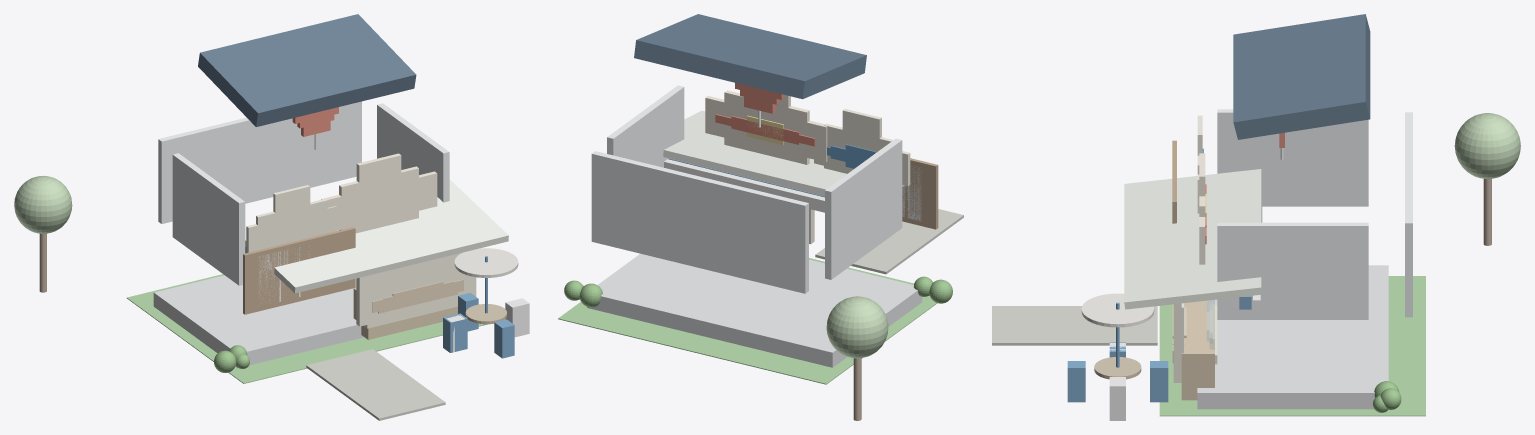
Rendered from BUILDING_BAKERY_SMALL_TOWN_001_LOD_CLOSE.glb.
The picture shows the model from 3 angles, left to right: view 1: azimuth 30°, elevation 25°; view 2: azimuth 150°, elevation 25°; view 3: azimuth 270°, elevation 25°; orthographic projection. The views are drawn at different scales.
Visible parts, largest first — view 1: MOD_ROOF_GABLE_STANDARD_001, MOD_WALL_WEATHERBOARD_WHITE_001.002, MOD_FOUNDATION_STANDARD_RECT_001, MOD_WALL_WEATHERBOARD_WHITE_001, MOD_PATH_STANDARD_001_CLOSE_SURFACE, MOD_AWNING_COASTAL_CAFE_001_STRIPED_COASTAL_AWNING_CLOSE_CAN, MOD_WINDOW_RESIDENTIAL_LARGE_001_COASTAL_PANORAMIC_WINDOW_CL, MOD_AWNING_COASTAL_CAFE_001_DEEP_SEATING_AWNING_CLOSE_CANOPY, MOD_GROUND_GRASS_STANDARD_001_CLOSE_PATCH, MOD_BAKERY_DISPLAY_WINDOW_001_CORNER_DISPLAY_FRONTAGE_CLOSE_ (×2), MOD_WALL_WEATHERBOARD_WHITE_001.001, MOD_AWNING_COASTAL_CAFE_001_SHALLOW_CAFE_AWNING_CLOSE_CANOPY (+15 smaller); view 2: MOD_WALL_WEATHERBOARD_WHITE_001.002, MOD_FOUNDATION_STANDARD_RECT_001, MOD_ROOF_GABLE_STANDARD_001, MOD_WALL_WEATHERBOARD_WHITE_001, MOD_GROUND_GRASS_STANDARD_001_CLOSE_PATCH, MOD_AWNING_COASTAL_CAFE_001_DEEP_SEATING_AWNING_CLOSE_CANOPY, MOD_WALL_WEATHERBOARD_WHITE_001.001, MOD_BAKERY_SIGN_STANDARD_001_COMPACT_CORNER_BAKERY_SIGN_CLOS (×2), MOD_TREE_EUCALYPTUS_STANDARD_001_CLOSE_CANOPY, MOD_PATH_STANDARD_001_CLOSE_SURFACE, MOD_BAKERY_SIGN_STANDARD_001_FASCIA_BAKERY_SIGN_CLOSE_PANEL, MOD_WINDOW_RESIDENTIAL_LARGE_001_COASTAL_PANORAMIC_WINDOW_CL (+13 smaller); view 3: MOD_FOUNDATION_STANDARD_RECT_001, MOD_ROOF_GABLE_STANDARD_001, MOD_WALL_WEATHERBOARD_WHITE_001.001, MOD_AWNING_COASTAL_CAFE_001_DEEP_SEATING_AWNING_CLOSE_CANOPY, MOD_WALL_WEATHERBOARD_WHITE_001, MOD_GROUND_GRASS_STANDARD_001_CLOSE_PATCH, MOD_PATH_STANDARD_001_CLOSE_SURFACE, MOD_TREE_EUCALYPTUS_STANDARD_001_CLOSE_CANOPY, MOD_AWNING_COASTAL_CAFE_001_CORNER_RETURN_AWNING_CLOSE_CANOP, MOD_AWNING_COASTAL_CAFE_001_STRIPED_COASTAL_AWNING_CLOSE_CAN, MOD_BAKERY_COUNTER_FRONTAGE_001_GLASS_FRONT_PASTRY_COUNTER_C, MOD_OUTDOOR_TABLE_SEATING_COASTAL_001_UMBRELLA_TABLE_VARIAN. (+7 smaller).
Boxes of the visible parts, box(x1,y1,x2,y2) form: MOD_ROOF_GABLE_STANDARD_001: box(198, 14, 416, 126); MOD_WALL_WEATHERBOARD_WHITE_001.002: box(158, 101, 361, 223); MOD_FOUNDATION_STANDARD_RECT_001: box(153, 275, 363, 367); MOD_WALL_WEATHERBOARD_WHITE_001: box(172, 153, 245, 285); MOD_PATH_STANDARD_001_CLOSE_SURFACE: box(306, 349, 445, 420); MOD_AWNING_COASTAL_CAFE_001_STRIPED_COASTAL_AWNING_CLOSE_CAN: box(280, 187, 495, 279); MOD_WINDOW_RESIDENTIAL_LARGE_001_COASTAL_PANORAMIC_WINDOW_CL: box(243, 227, 355, 314); MOD_AWNING_COASTAL_CAFE_001_DEEP_SEATING_AWNING_CLOSE_CANOPY: box(245, 179, 508, 293); MOD_GROUND_GRASS_STANDARD_001_CLOSE_PATCH: box(127, 274, 487, 383); MOD_BAKERY_DISPLAY_WINDOW_001_CORNER_DISPLAY_FRONTAGE_CLOSE_ (×2): box(364, 259, 468, 328); MOD_WALL_WEATHERBOARD_WHITE_001.001: box(377, 103, 449, 202); MOD_AWNING_COASTAL_CAFE_001_SHALLOW_CAFE_AWNING_CLOSE_CANOPY: box(287, 194, 470, 274); MOD_WALL_WEATHERBOARD_WHITE_001.002: box(591, 151, 808, 293); MOD_FOUNDATION_STANDARD_RECT_001: box(587, 253, 922, 367); MOD_ROOF_GABLE_STANDARD_001: box(634, 14, 866, 99); MOD_WALL_WEATHERBOARD_WHITE_001: box(825, 138, 902, 279); MOD_GROUND_GRASS_STANDARD_001_CLOSE_PATCH: box(558, 258, 937, 384); MOD_AWNING_COASTAL_CAFE_001_DEEP_SEATING_AWNING_CLOSE_CANOPY: box(663, 110, 904, 196); MOD_WALL_WEATHERBOARD_WHITE_001.001: box(607, 85, 684, 167); MOD_BAKERY_SIGN_STANDARD_001_COMPACT_CORNER_BAKERY_SIGN_CLOS (×2): box(724, 90, 809, 164); MOD_TREE_EUCALYPTUS_STANDARD_001_CLOSE_CANOPY: box(826, 296, 888, 358); MOD_PATH_STANDARD_001_CLOSE_SURFACE: box(815, 209, 963, 274); MOD_BAKERY_SIGN_STANDARD_001_FASCIA_BAKERY_SIGN_CLOSE_PANEL: box(705, 96, 827, 162); MOD_WINDOW_RESIDENTIAL_LARGE_001_COASTAL_PANORAMIC_WINDOW_CL: box(902, 158, 938, 229); MOD_FOUNDATION_STANDARD_RECT_001: box(1197, 265, 1388, 409); MOD_ROOF_GABLE_STANDARD_001: box(1233, 14, 1370, 139); MOD_WALL_WEATHERBOARD_WHITE_001.001: box(1217, 222, 1368, 319); MOD_AWNING_COASTAL_CAFE_001_DEEP_SEATING_AWNING_CLOSE_CANOPY: box(1124, 169, 1262, 309); MOD_WALL_WEATHERBOARD_WHITE_001: box(1217, 109, 1368, 206); MOD_GROUND_GRASS_STANDARD_001_CLOSE_PATCH: box(1159, 276, 1425, 416); MOD_PATH_STANDARD_001_CLOSE_SURFACE: box(992, 306, 1157, 345); MOD_TREE_EUCALYPTUS_STANDARD_001_CLOSE_CANOPY: box(1454, 113, 1520, 178); MOD_AWNING_COASTAL_CAFE_001_CORNER_RETURN_AWNING_CLOSE_CANOP: box(1134, 173, 1251, 296); MOD_AWNING_COASTAL_CAFE_001_STRIPED_COASTAL_AWNING_CLOSE_CAN: box(1139, 178, 1237, 297); MOD_BAKERY_COUNTER_FRONTAGE_001_GLASS_FRONT_PASTRY_COUNTER_C: box(1181, 300, 1214, 400); MOD_OUTDOOR_TABLE_SEATING_COASTAL_001_UMBRELLA_TABLE_VARIAN.: box(1081, 293, 1154, 327).
Bounding box in the file's own units: 9.2 × 6.46 × 10.72.
